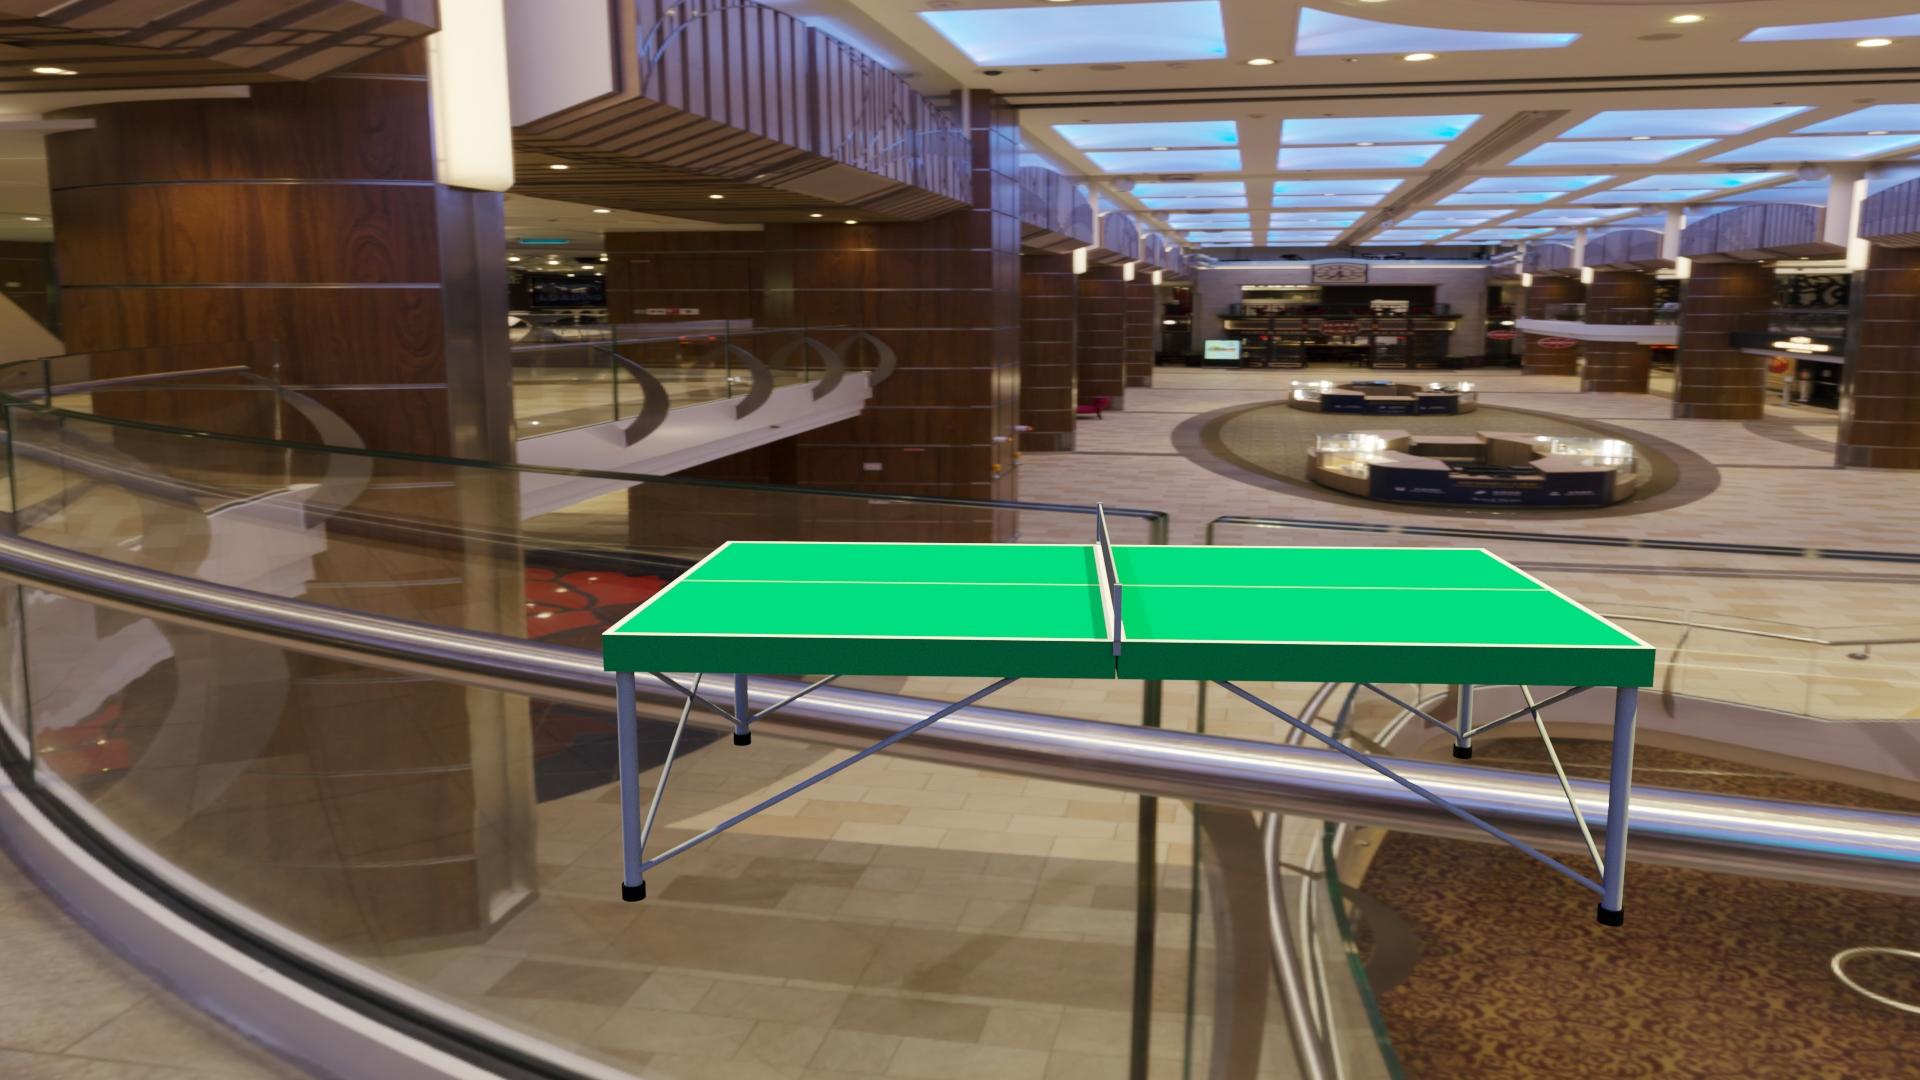table: (612, 542, 1644, 646)
